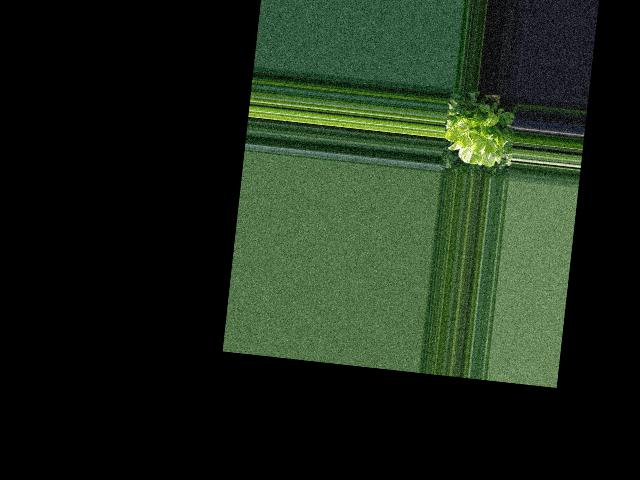lettuce: (448, 102, 515, 167)
